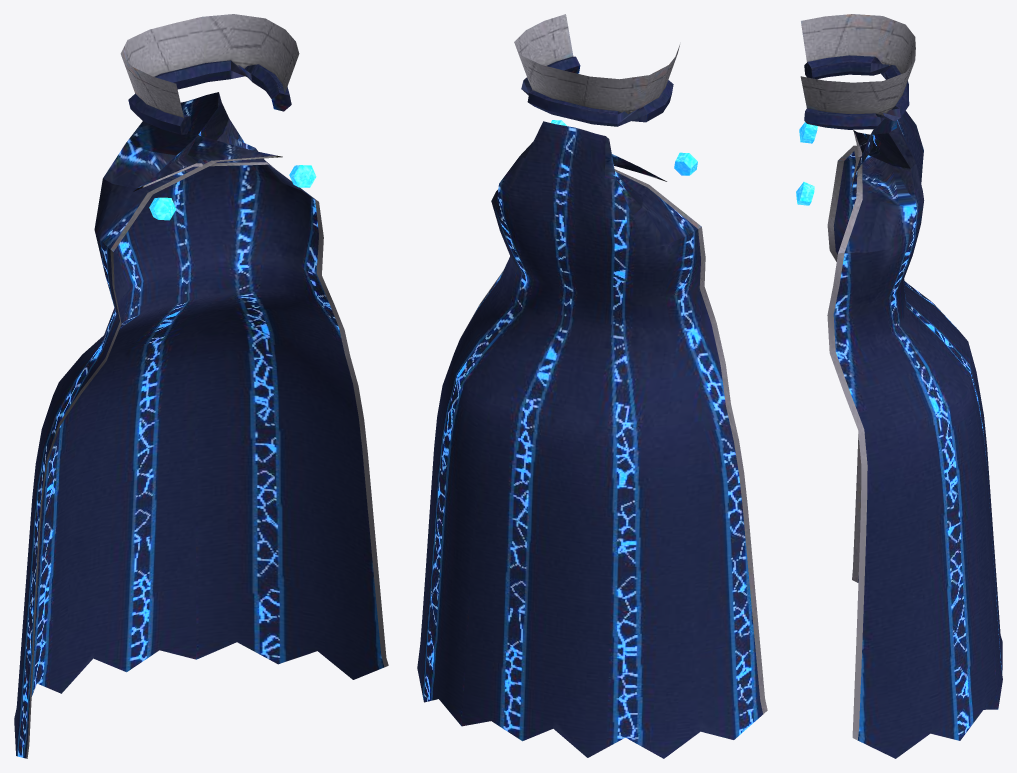
The model's file is Capa_do_Guardião_nivel100.glb.
3 renders of one model, left to right at view 1: azimuth 30°, elevation 25°; view 2: azimuth 150°, elevation 25°; view 3: azimuth 270°, elevation 25°, orthographic. The views are drawn at different scales.
Parts seen in each view (by area): view 1: capa_do_guardiao_nivel100; view 2: capa_do_guardiao_nivel100; view 3: capa_do_guardiao_nivel100.
Boxes of the visible parts, <box> form: capa_do_guardiao_nivel100: <box>14,14,388,758</box>; capa_do_guardiao_nivel100: <box>417,14,767,758</box>; capa_do_guardiao_nivel100: <box>796,14,1002,758</box>.
Bounding box in the file's own units: 0.707 × 1.29 × 0.3806.
1 material, 1 textured.
